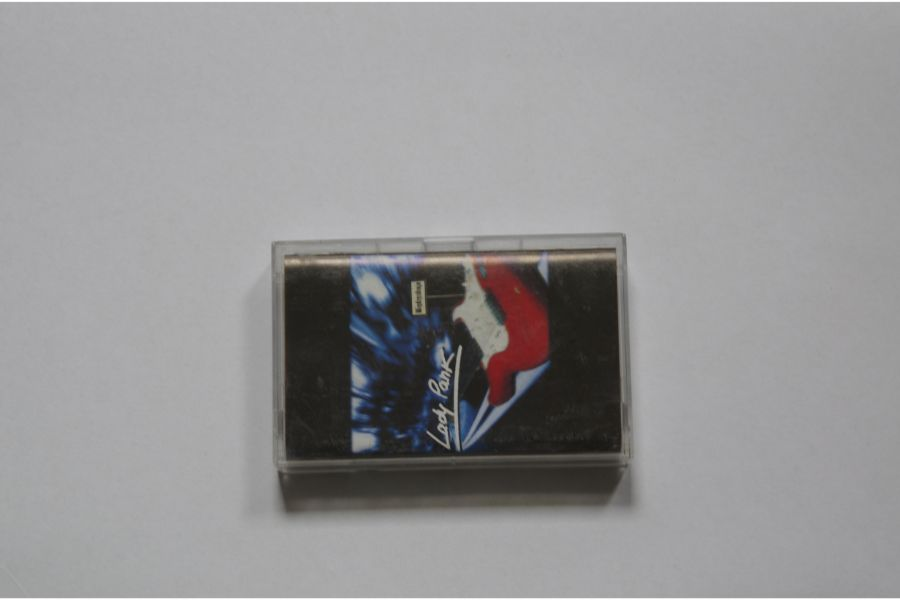album: (267, 233, 635, 475)
